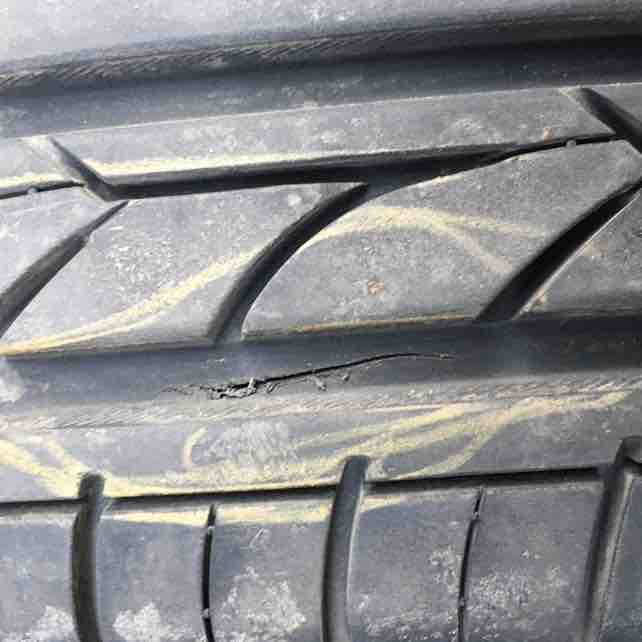tr: (187, 349, 463, 402)
